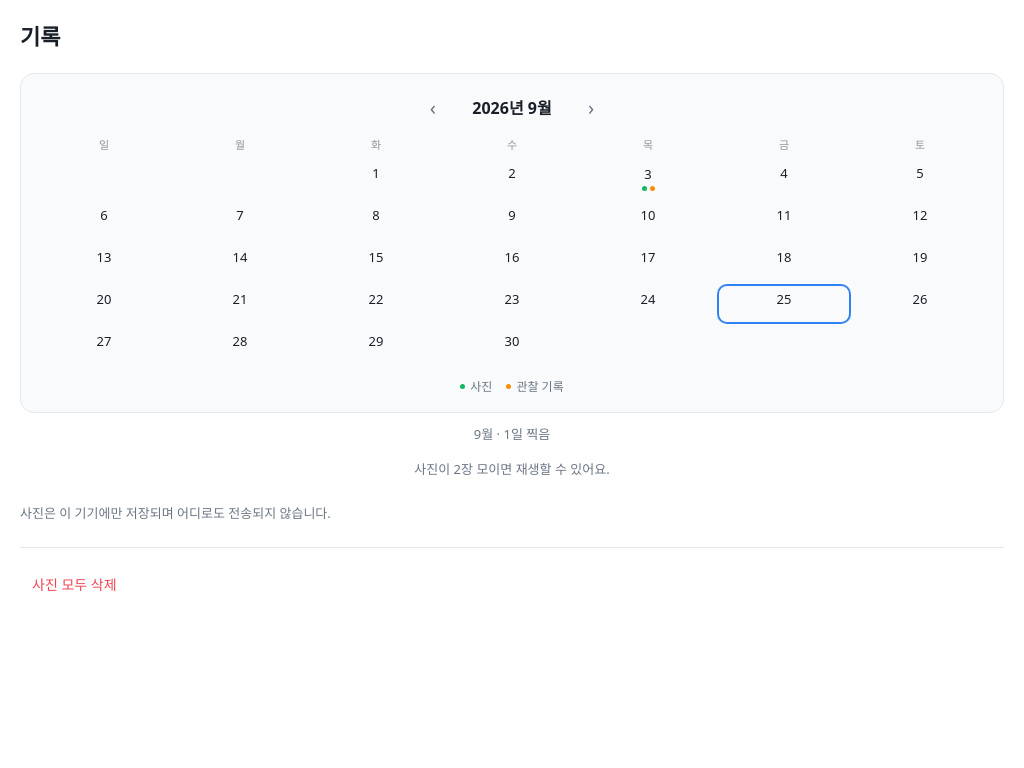
Test: 날짜 시트 › 그날 사진과 관찰 답을 보여준다
Click the button "3": coordinates (648, 178) [581,158,715,198]
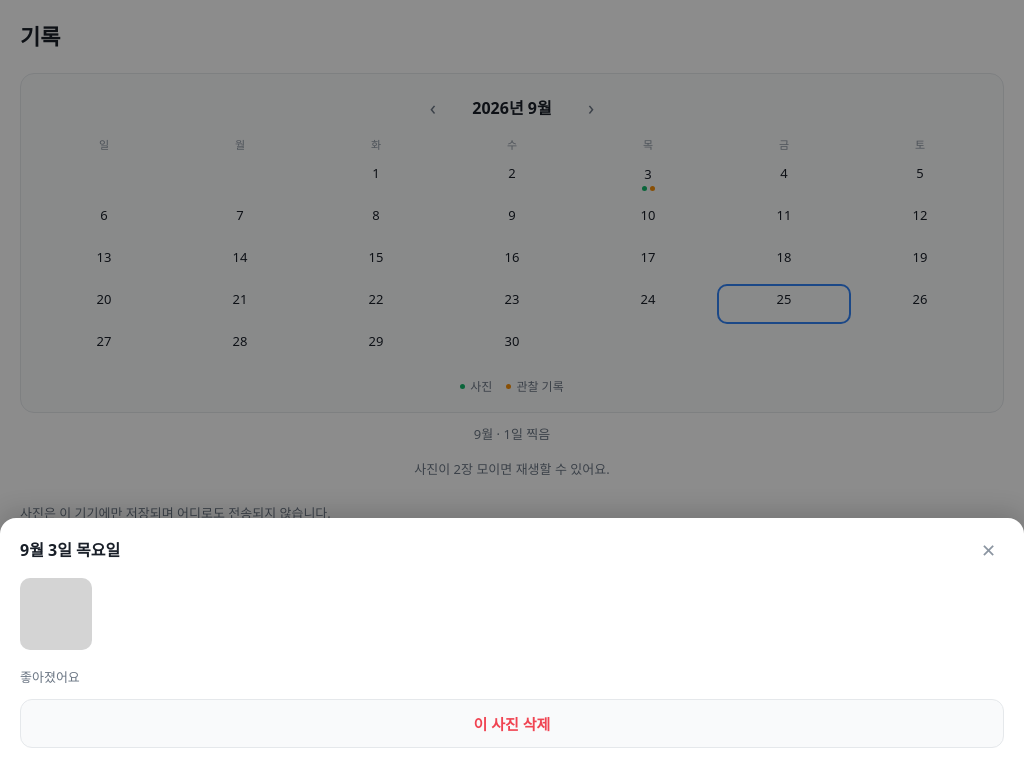
Now the text "좋아졌어요" is shown, box [20,668,80,686]
